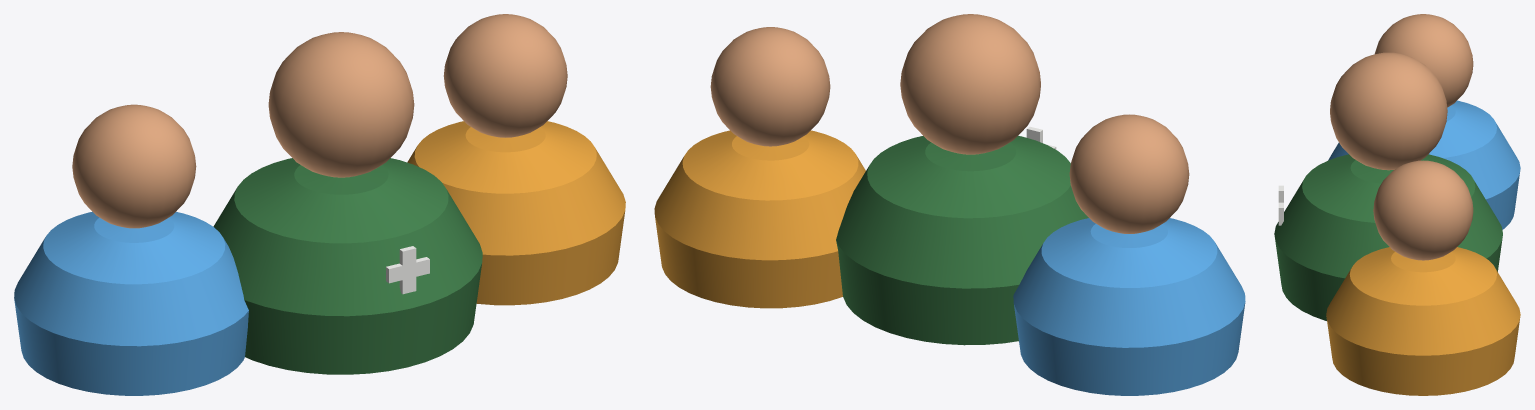
File: ph_staff.glb
3 views of the same model, side by side, from view 1: azimuth 30°, elevation 25°; view 2: azimuth 150°, elevation 25°; view 3: azimuth 270°, elevation 25° (orthographic). The views are drawn at different scales.
Parts seen in each view (by area): view 1: ph_staff; view 2: ph_staff; view 3: ph_staff.
Part boxes in pixels (x1,y1,x2,y2): ph_staff: (14, 14, 625, 395); ph_staff: (654, 14, 1245, 395); ph_staff: (1274, 14, 1520, 395).
Bounding box in the file's own units: 3.12 × 1.44 × 1.42.
